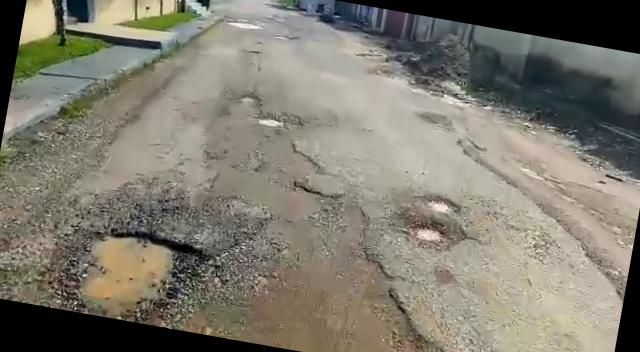pothole: (66, 220, 202, 327), (406, 216, 448, 250), (419, 192, 457, 216), (256, 115, 284, 130), (236, 92, 262, 106)
